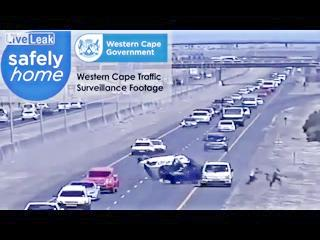Car: (141, 154, 191, 178), (56, 184, 93, 210), (158, 160, 201, 181), (86, 166, 121, 191), (200, 161, 233, 187), (71, 180, 101, 201), (202, 133, 229, 151), (223, 107, 245, 127), (131, 138, 154, 155), (24, 202, 61, 210), (149, 139, 167, 152), (192, 111, 211, 123), (218, 120, 235, 132), (242, 95, 258, 107), (21, 109, 38, 120), (181, 117, 198, 127), (209, 106, 222, 116), (41, 106, 55, 115), (22, 103, 36, 112), (0, 109, 9, 123), (57, 102, 70, 111), (262, 80, 275, 89), (36, 102, 50, 110), (71, 100, 83, 109), (172, 78, 183, 86), (221, 96, 233, 103), (213, 99, 224, 106), (257, 91, 268, 98), (245, 86, 256, 93), (231, 93, 242, 100), (238, 88, 249, 95), (243, 108, 251, 117), (256, 79, 265, 86), (256, 98, 264, 105), (205, 72, 213, 78), (270, 72, 278, 78), (192, 75, 201, 80)
Major Accident: (140, 152, 202, 184)
